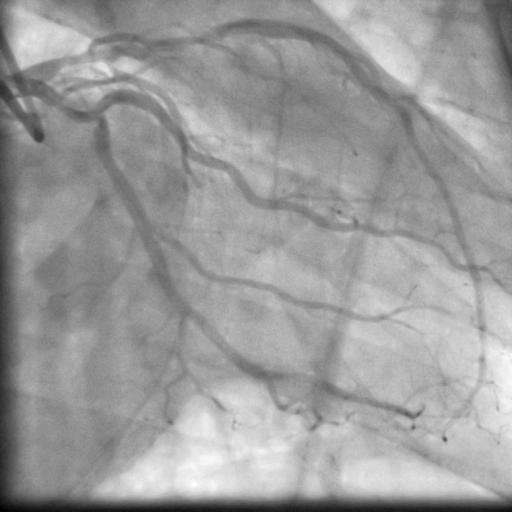Stenosis: (161, 24, 217, 52)
